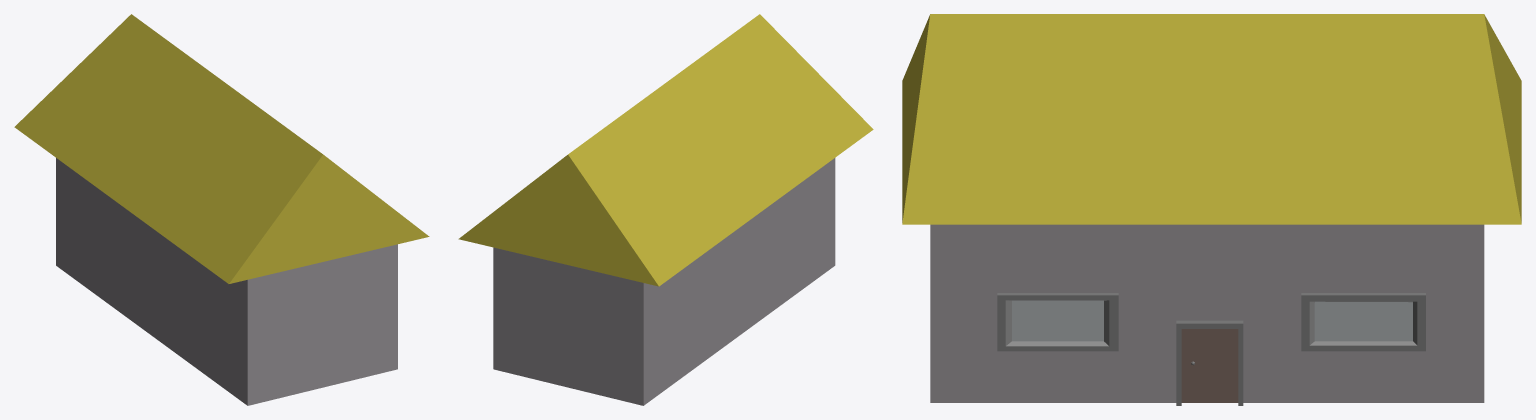
File: Small 6.fbx
3 views of the same model, side by side, from view 1: azimuth 30°, elevation 25°; view 2: azimuth 150°, elevation 25°; view 3: azimuth 270°, elevation 25° (orthographic). The views are drawn at different scales.
Parts seen in each view (by area): view 1: pCube2; view 2: pCube2; view 3: pCube2.
Boxes of the visible parts, box(x1,y1,x2,y2) form: pCube2: box(14, 14, 429, 405); pCube2: box(458, 14, 873, 405); pCube2: box(902, 14, 1521, 405).
Bounding box in the file's own units: 7.99 × 8.86 × 14.79.
